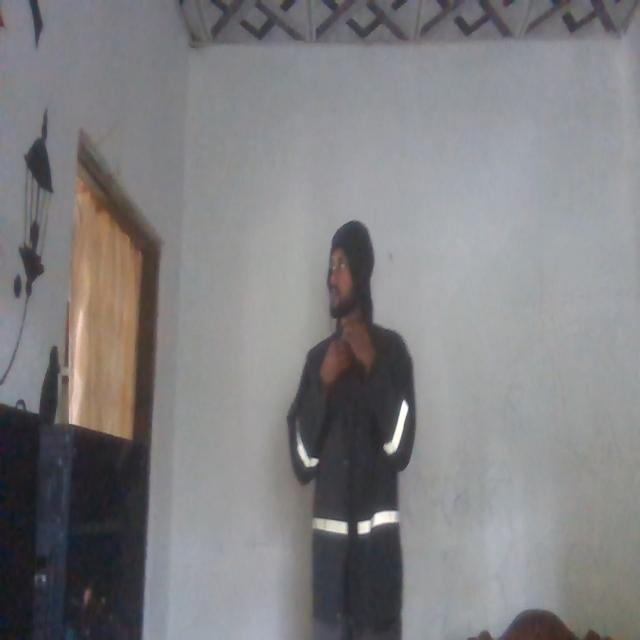Jacket_Wearer: (289, 310, 415, 619)
Person: (289, 214, 419, 640)
